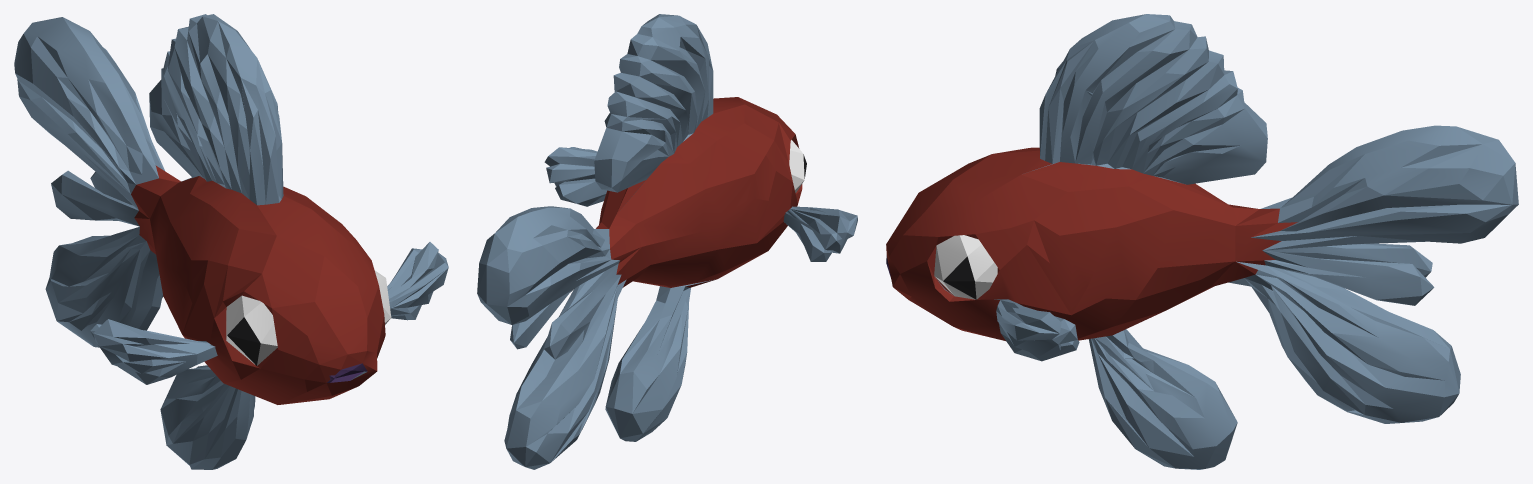
Rendered from FishAi.glb.
3 views of the same model, side by side, from view 1: azimuth 30°, elevation 25°; view 2: azimuth 150°, elevation 25°; view 3: azimuth 270°, elevation 25° (orthographic). The views are drawn at different scales.
Visible parts, largest first — view 1: model; view 2: model; view 3: model.
Part boxes in pixels (left/top/right/bottom): model: left=14, top=14, right=448, bottom=469; model: left=477, top=14, right=857, bottom=469; model: left=886, top=14, right=1518, bottom=469.
Size of the model in its own units: 1.07 by 1.37 by 1.72.
1 material, 1 textured.
